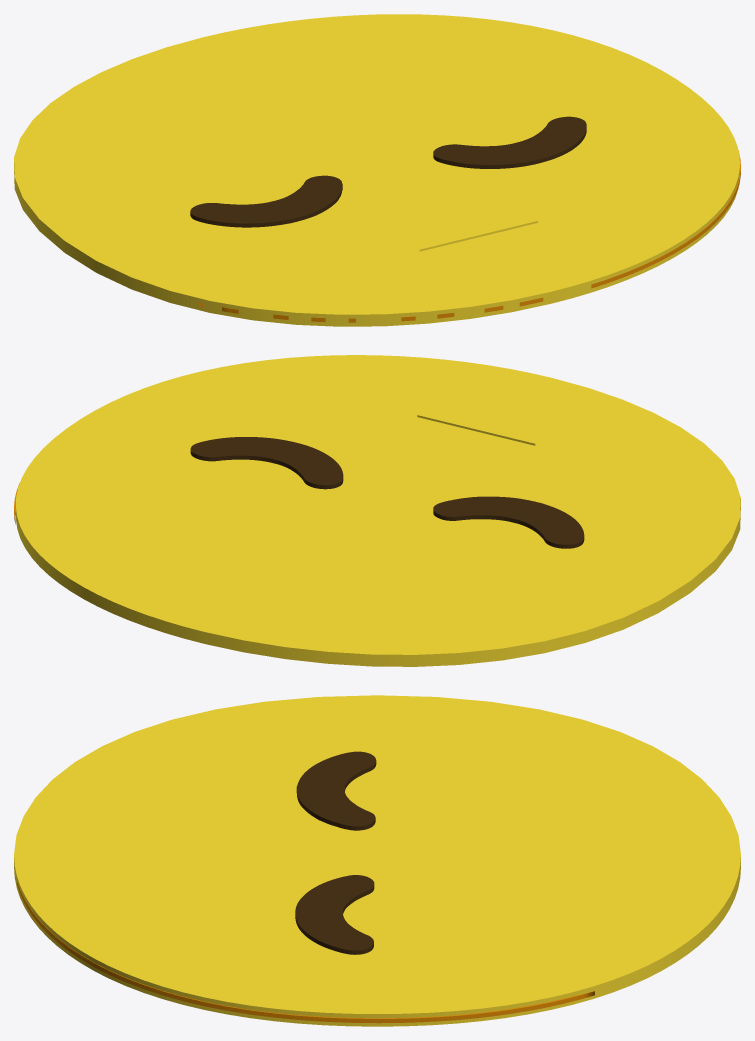
The model's file is emoji_u1f614.glb.
3 renders of one model, top to bottom at view 1: azimuth 30°, elevation 25°; view 2: azimuth 150°, elevation 25°; view 3: azimuth 270°, elevation 25°, orthographic. The views are drawn at different scales.
Parts seen in each view (by area): view 1: emoji_u1f614; view 2: emoji_u1f614; view 3: emoji_u1f614.
Part boxes in pixels (x1,y1,x2,y2): emoji_u1f614: (14,14,740,326); emoji_u1f614: (14,355,740,666); emoji_u1f614: (14,695,740,1026).
Bounding box in the file's own units: 0.0327 × 0.001 × 0.0315.
